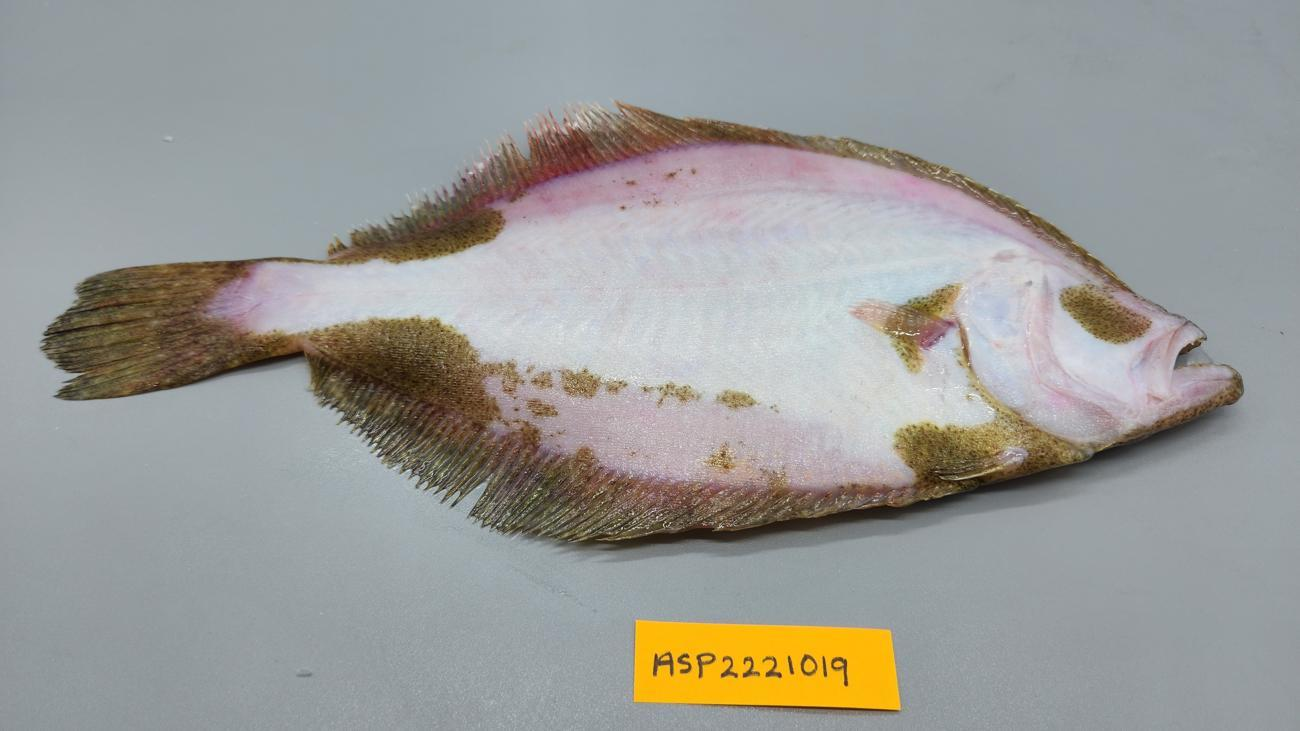SPDYH: (299, 325, 933, 488), (228, 265, 309, 359), (846, 296, 960, 352)
SPOUY: (34, 94, 1248, 554)
